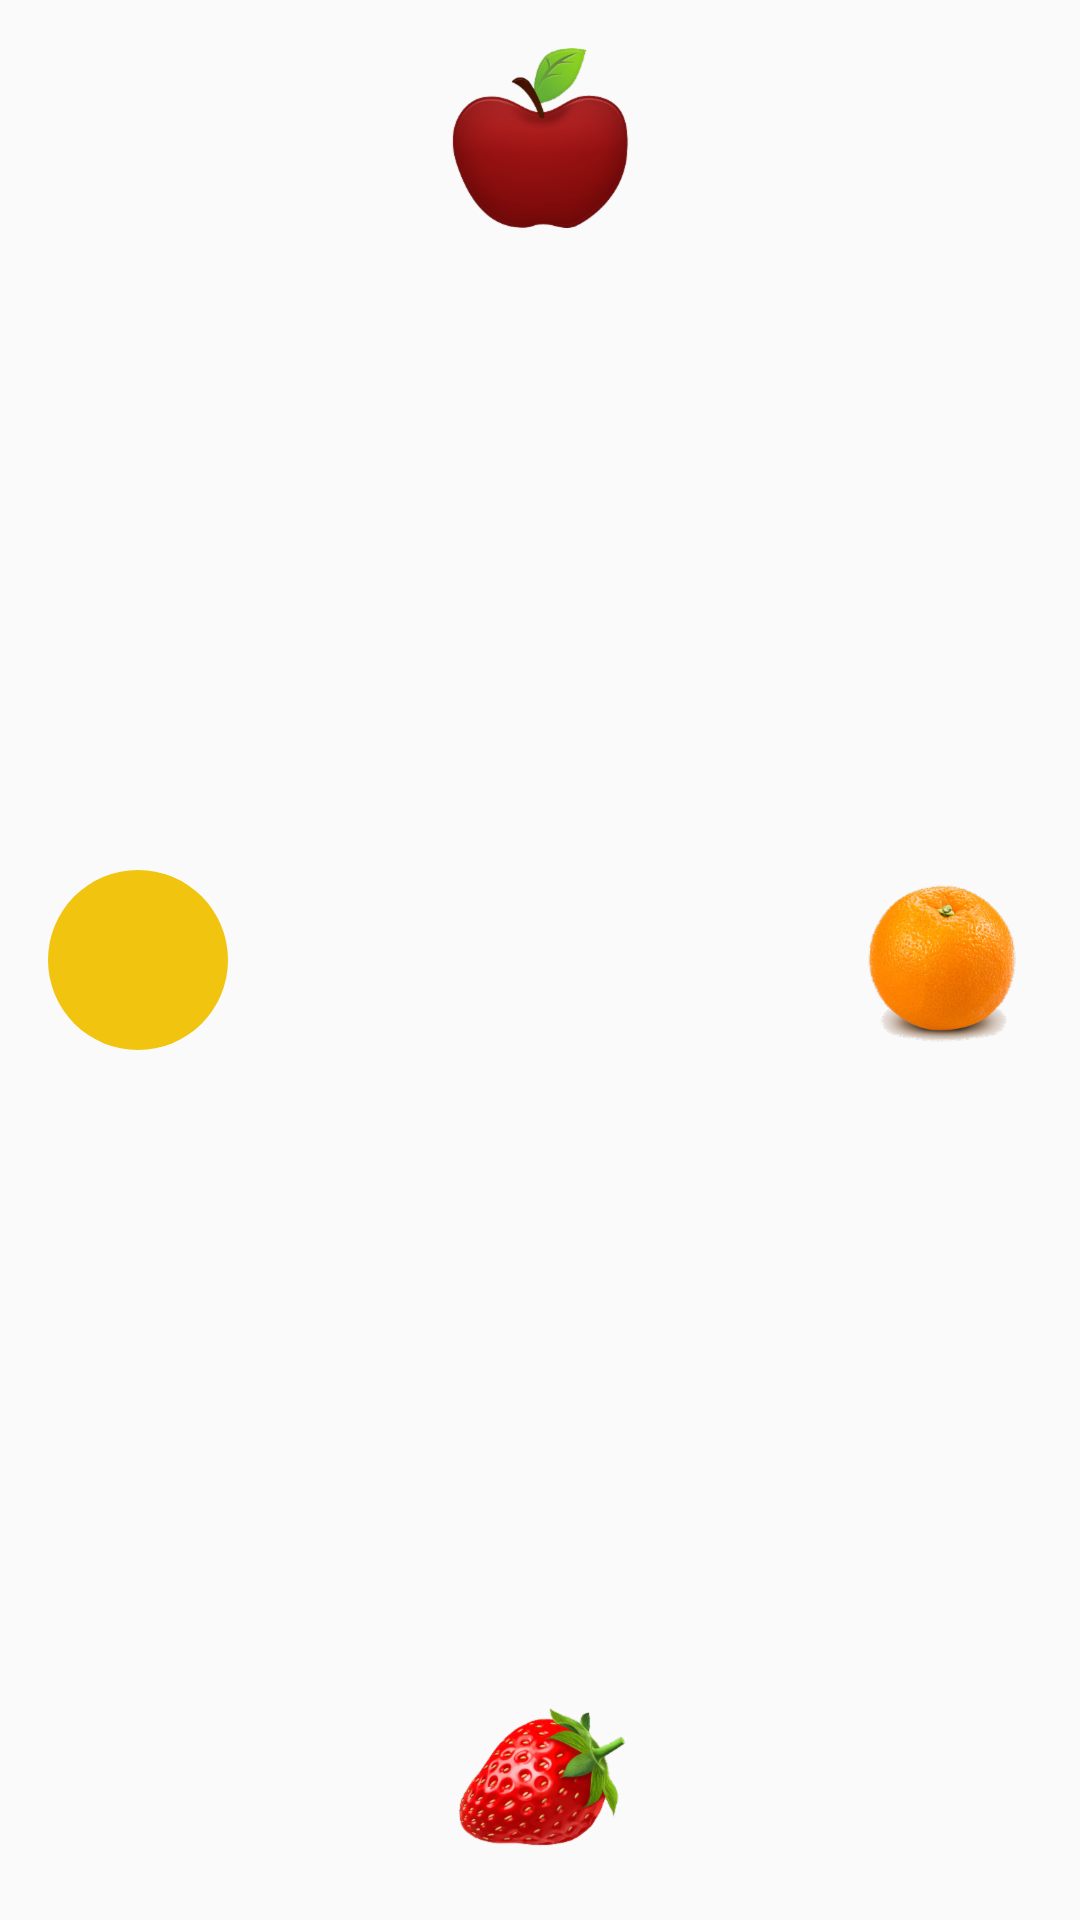

Where icons sit on this 1080px x 1920px app screen, as (x1, y1, x2, y2):
apple: (452, 48, 628, 228)
strawberry: (459, 1708, 625, 1846)
